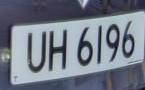1: (93, 22, 107, 67)
6: (73, 25, 95, 68), (119, 18, 138, 61)
9: (103, 19, 122, 67)
H: (47, 25, 70, 76)
U: (24, 26, 48, 78)
